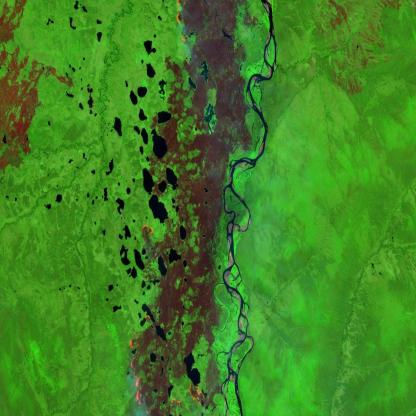fire: (128, 312, 155, 416), (171, 0, 187, 45), (185, 382, 206, 410), (139, 220, 154, 239), (168, 395, 183, 411)
